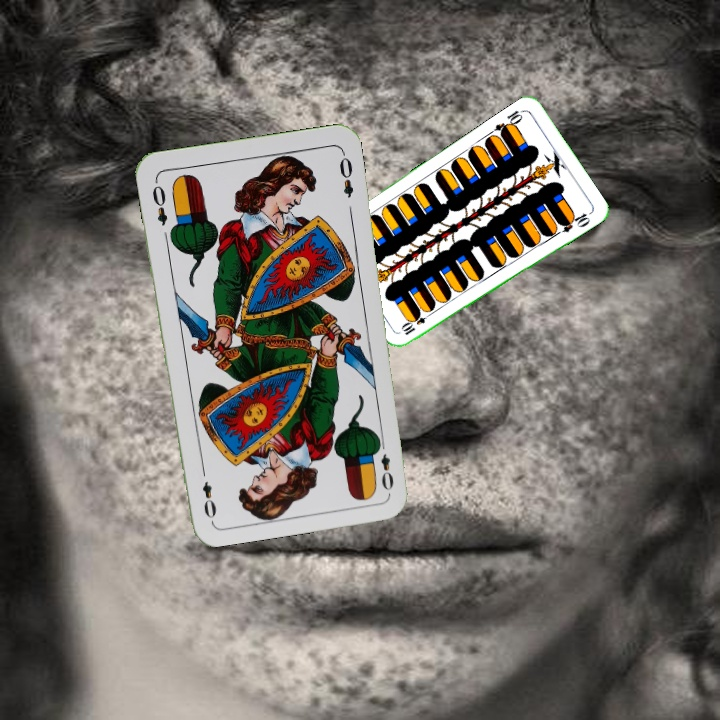E10: (491, 106, 527, 138), (398, 307, 435, 338)
EO: (372, 435, 397, 493), (148, 181, 170, 228)
